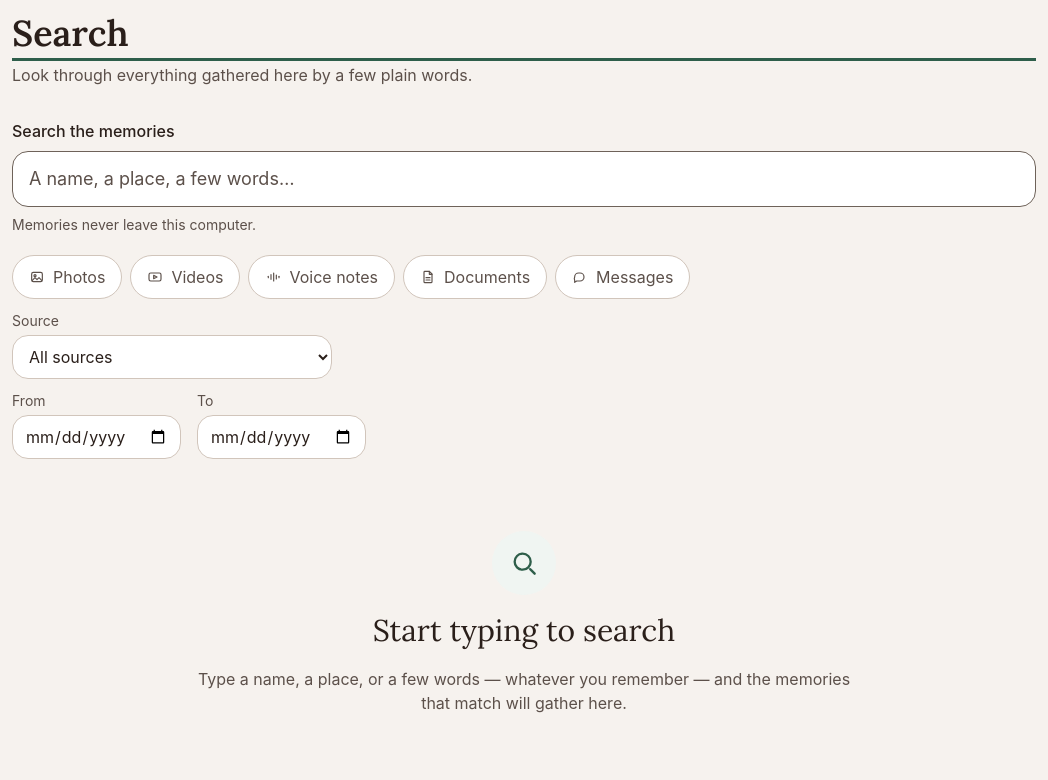
Scenario: Search — empty, loading and error states › shows a warm not-found state naming the term, and "Clear search" returns to the prompt
The width and height of the screenshot is (1048, 780).
Type "zzz" into the search field at (524, 179), box x1=12 y1=151 x2=1036 y2=207
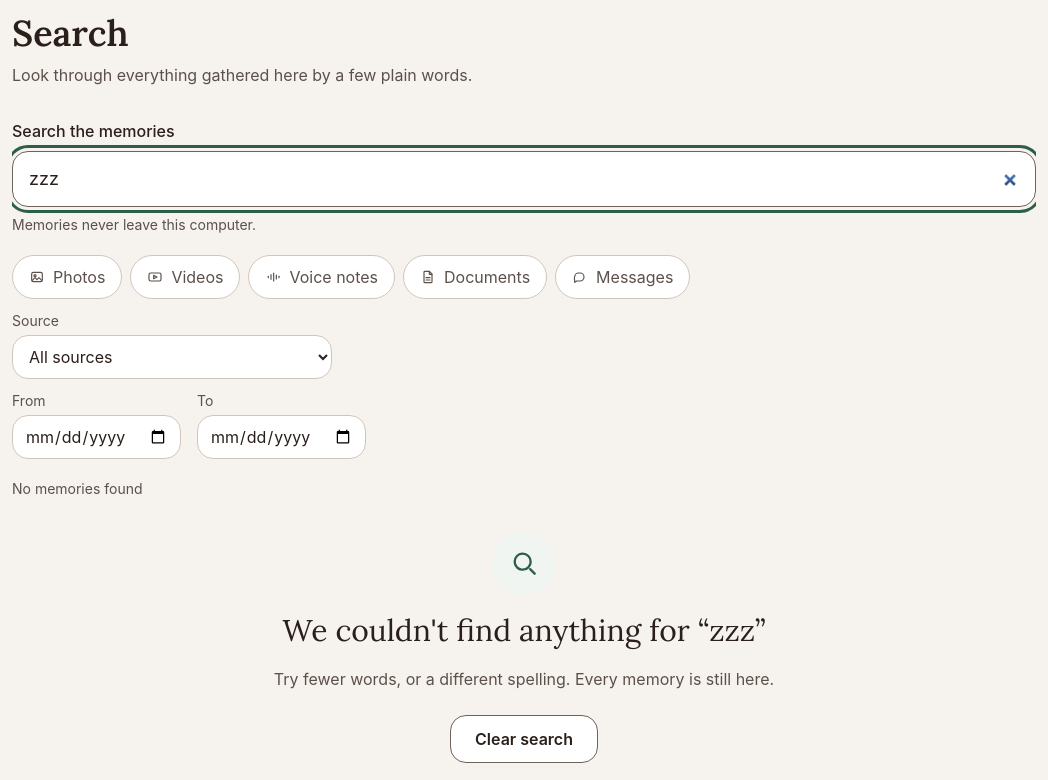
Expected: the heading "We couldn't find anything for “zzz”" is shown, x1=282 y1=611 x2=765 y2=651
Click the button "Clear search" at (524, 739), box x1=450 y1=715 x2=598 y2=763
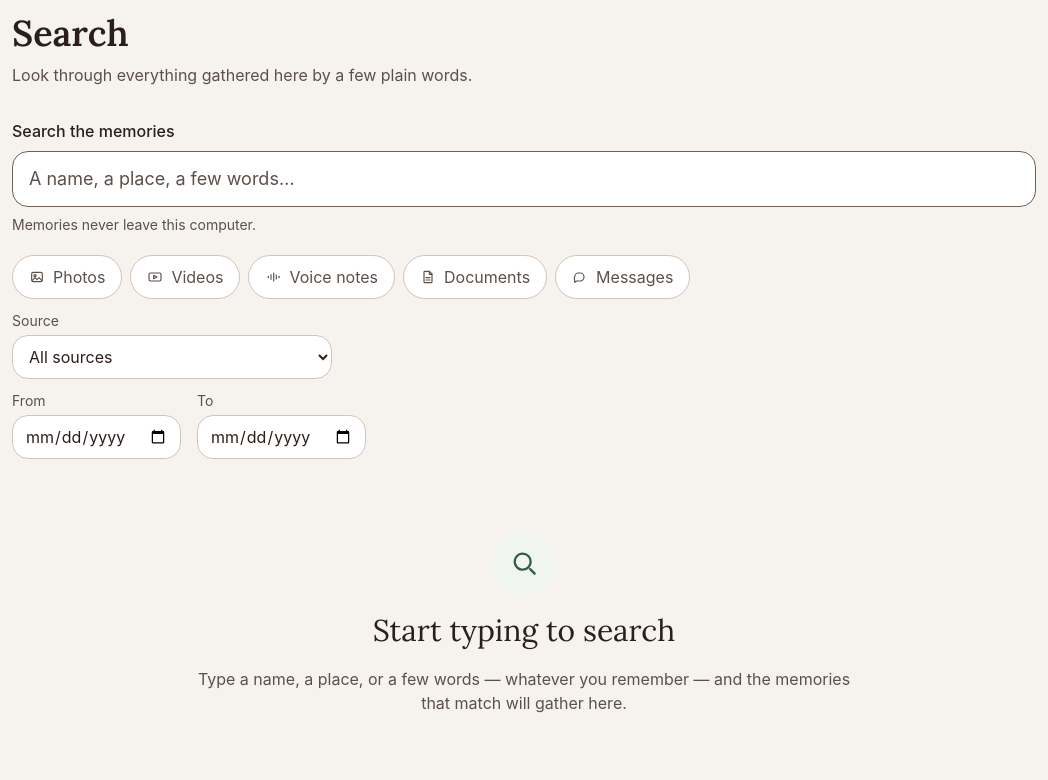
Expected: the search field is empty, x1=12 y1=151 x2=1036 y2=207
Expected: the text "a few words" is shown, x1=198 y1=669 x2=850 y2=713
Expected: the heading "couldn't find anything for" is gone
